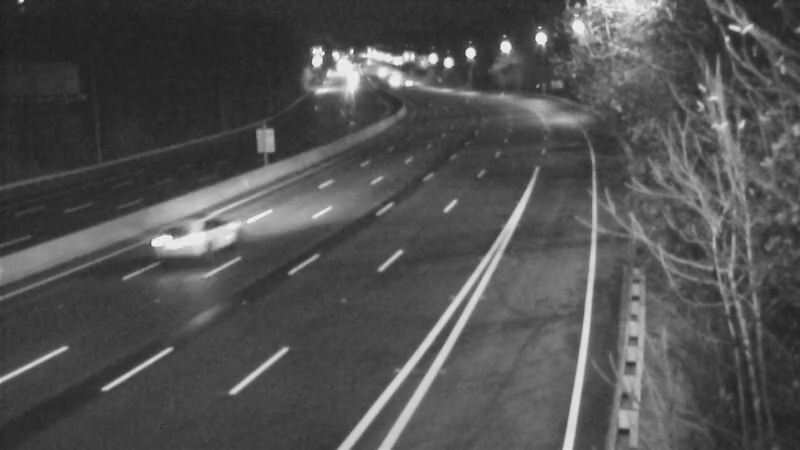vehicle: (155, 202, 235, 282), (368, 56, 418, 106), (381, 57, 431, 107)
